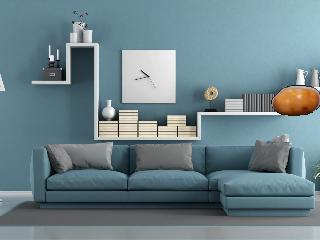potato: (272, 86, 320, 116)
